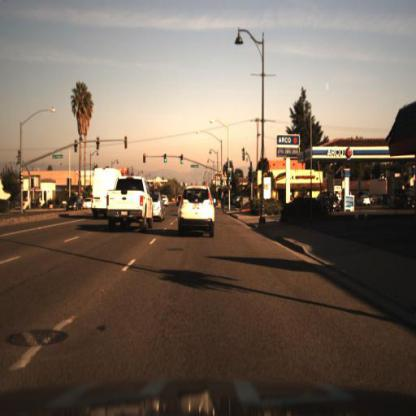biker: (218, 184, 228, 221)
car: (107, 173, 155, 235), (90, 164, 127, 221), (178, 185, 216, 235), (316, 190, 343, 213), (321, 186, 344, 213), (60, 195, 84, 218), (65, 196, 86, 216), (154, 191, 166, 222), (82, 198, 96, 215), (359, 194, 373, 210)
trafficLight-Green: (226, 168, 234, 185), (164, 151, 170, 166), (180, 153, 185, 169), (221, 178, 226, 190)
trafficLight-RedLeft: (141, 154, 149, 169)
truck: (92, 167, 125, 222)
